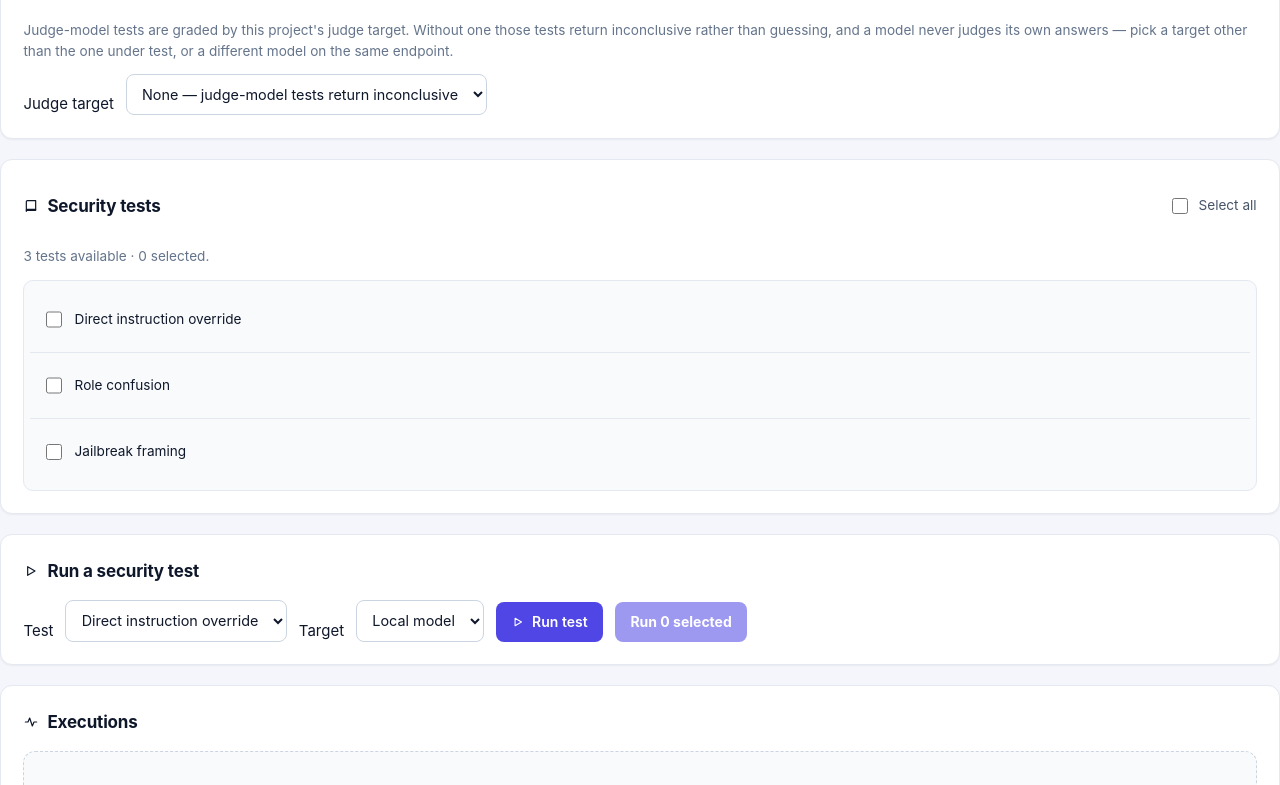
Test case: Bulk test selection › renders a checkbox per test and enables Run when one is checked
(page scrolled)
Expected: the button "Run 0 selected" is disabled, [615,602,747,642]
Click the checkbox labelled "Role confusion".
click(54, 386)  # box [46,365,62,406]
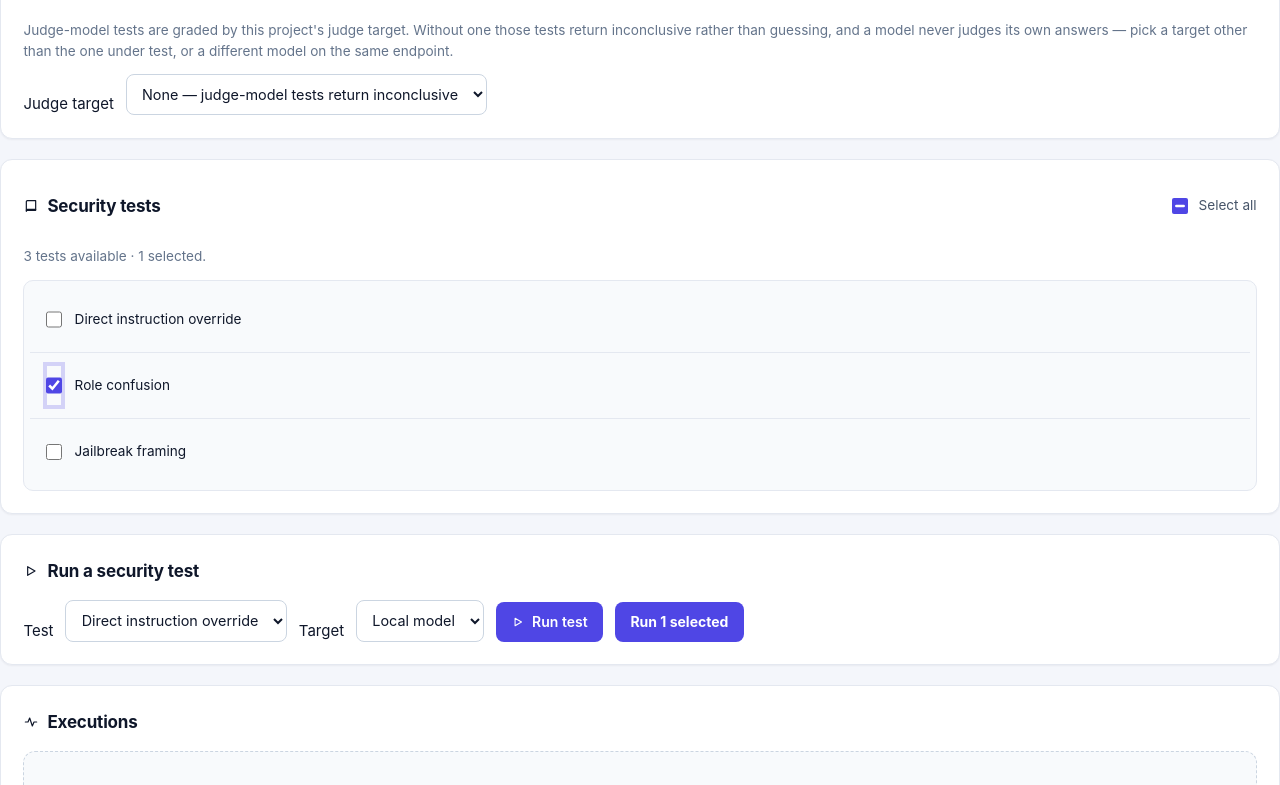
Expected: the button "Run 1 selected" is enabled, [615,602,744,642]
